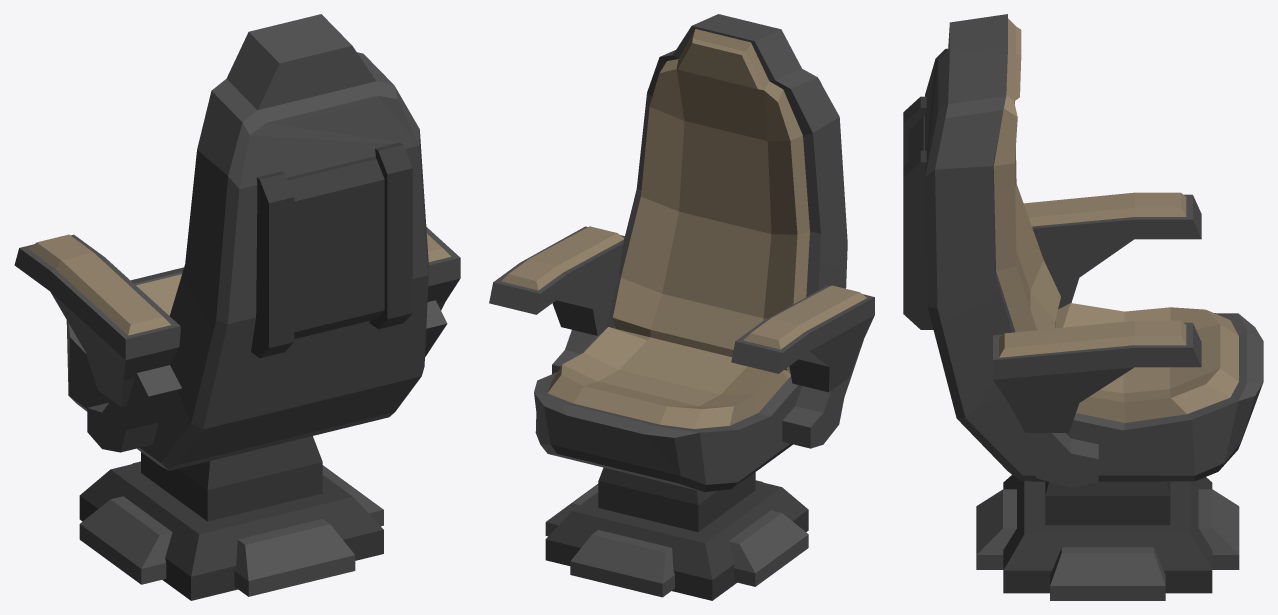
Rendered from bridge_chair_01.glb.
3 renders of one model, left to right at view 1: azimuth 30°, elevation 25°; view 2: azimuth 150°, elevation 25°; view 3: azimuth 270°, elevation 25°, orthographic. The views are drawn at different scales.
Visible parts, largest first — view 1: model; view 2: model; view 3: model.
Boxes of the visible parts, x1,y1,x2,y2 form: model: (14, 14, 460, 600); model: (489, 14, 874, 600); model: (903, 14, 1263, 600).
Bounding box in the file's own units: 0.901 × 1.42 × 0.8951.
Materials: 1 (1 with a texture image).
